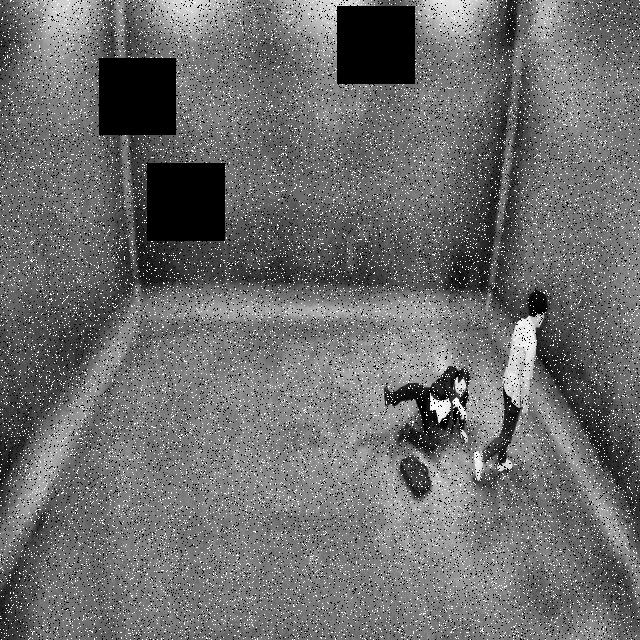assult: (377, 274, 552, 490), (380, 339, 482, 454)
